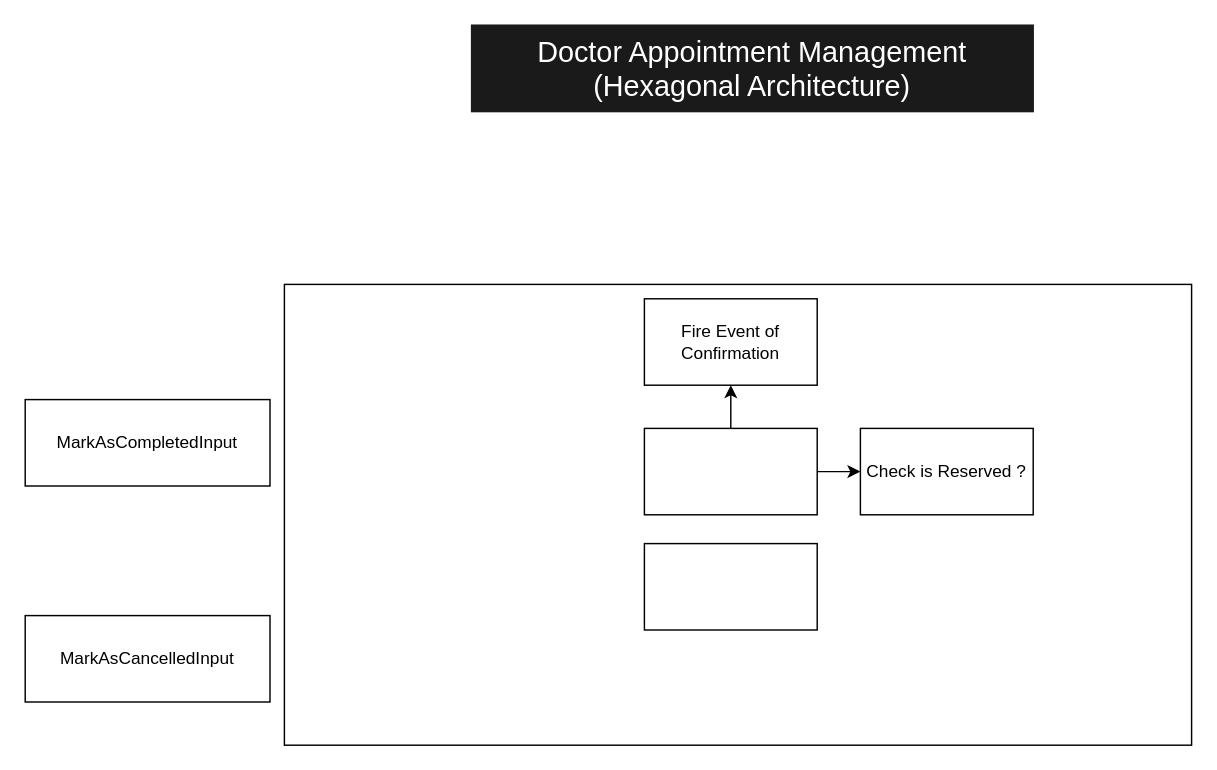
This 1217x770 diagram has some shape labels left out. Each missing label, with the box of its shape:
MarkAsCancelled: (643, 542, 817, 630)
MarkAsCompleted: (643, 427, 817, 515)
